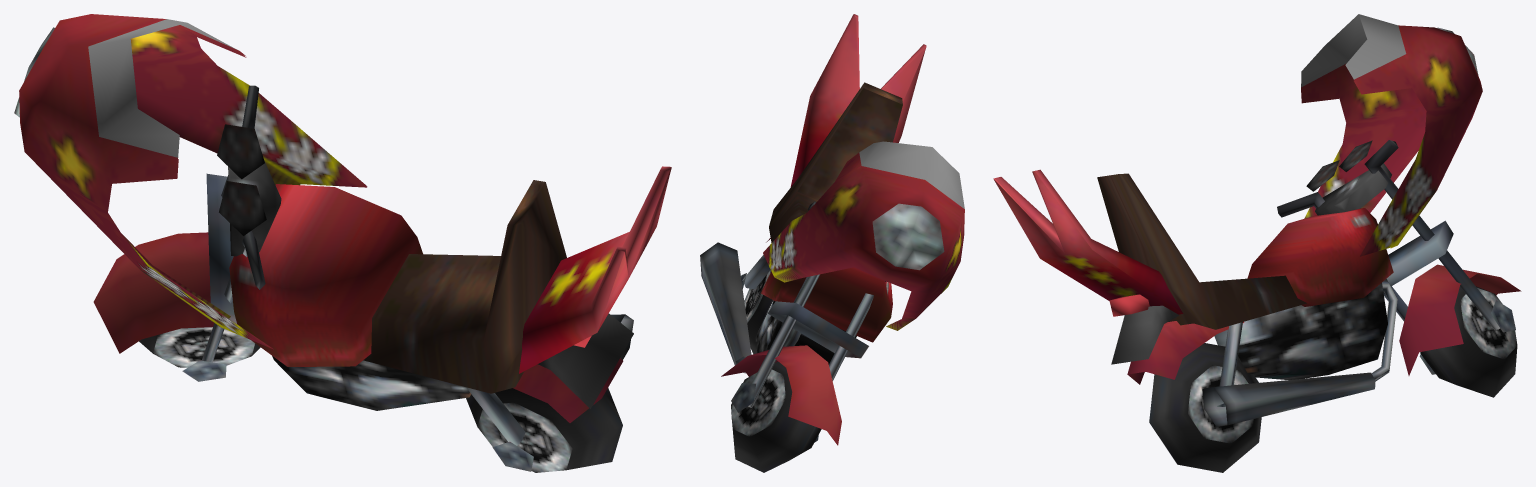
Rendered from icon0.ico.obj.
3 views of the same model, side by side, from view 1: azimuth 30°, elevation 25°; view 2: azimuth 150°, elevation 25°; view 3: azimuth 270°, elevation 25° (orthographic). The views are drawn at different scales.
Bounding box in the file's own units: 3.81 × 3.36 × 4.82.
Materials: 1 (1 with a texture image).
